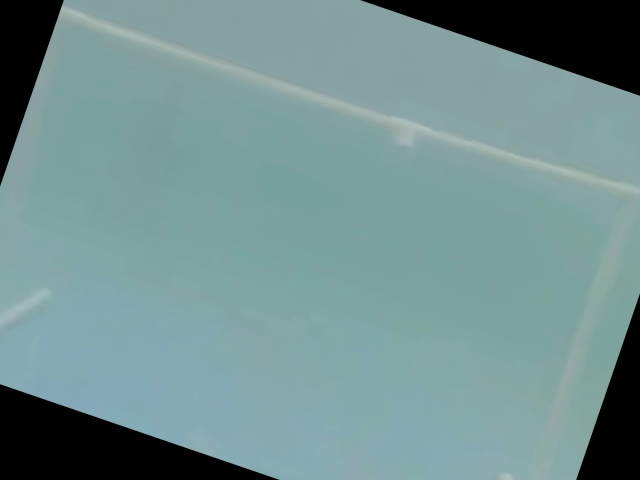gate: (26, 5, 640, 480)
